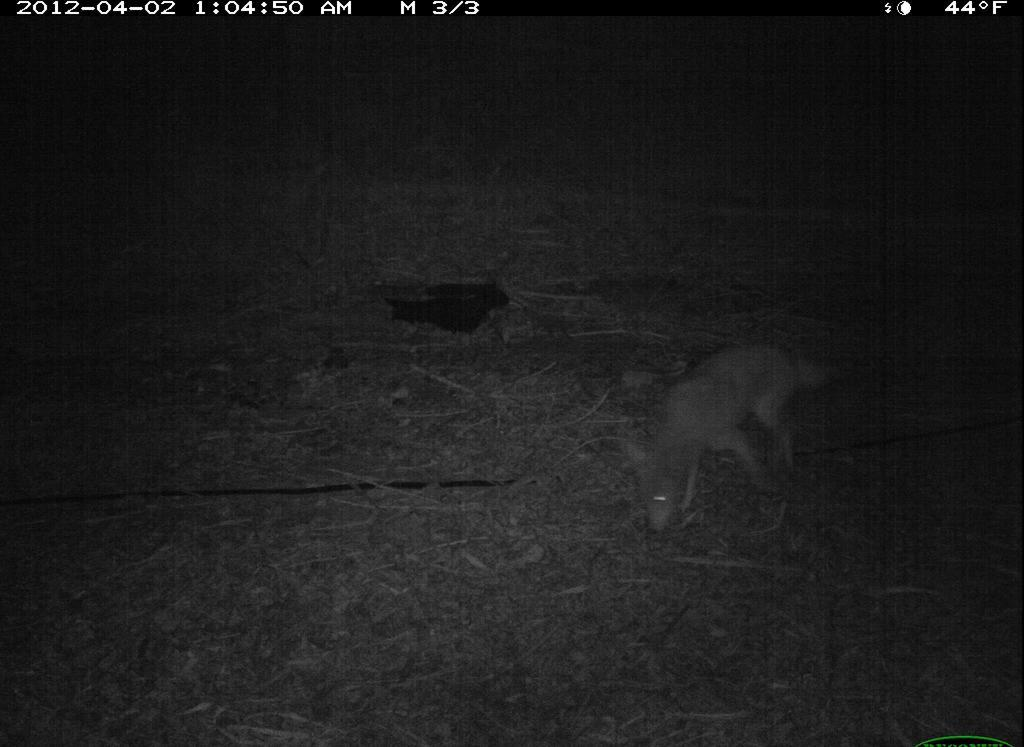coyote: (620, 340, 841, 543)
